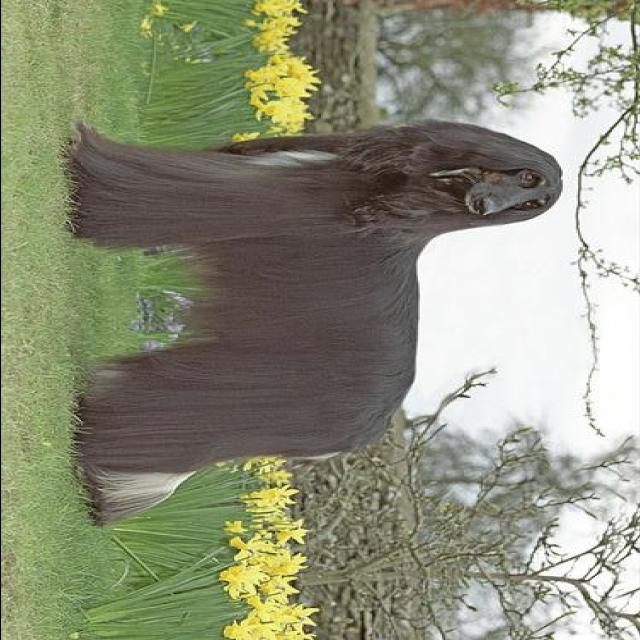afghan_hound: (66, 117, 564, 531)
